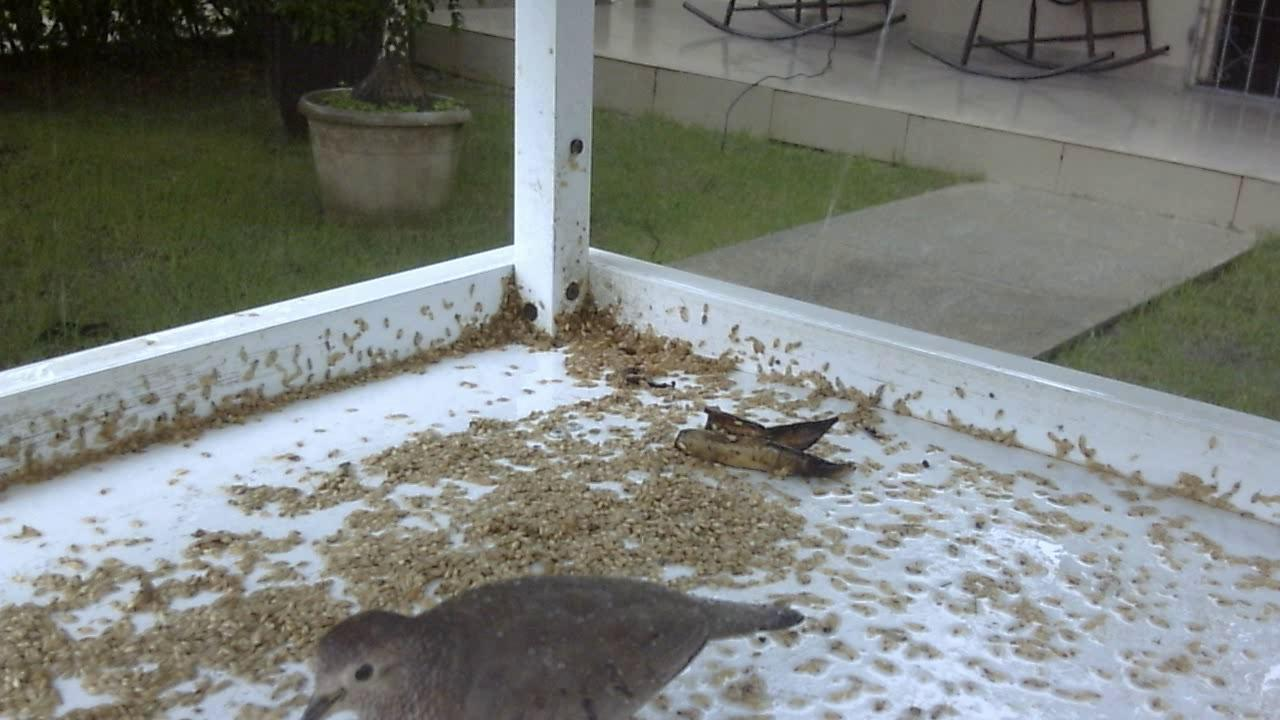rolinha: (290, 564, 818, 720)
